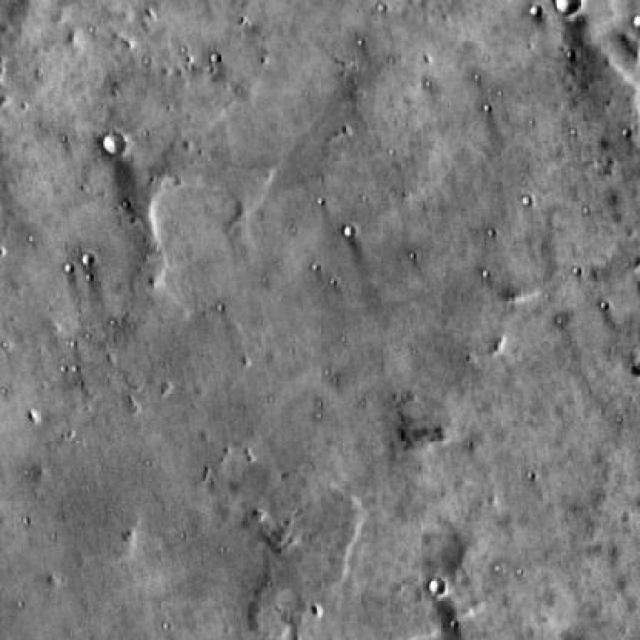crater: (100, 133, 126, 158), (552, 0, 578, 17), (428, 581, 443, 596)
